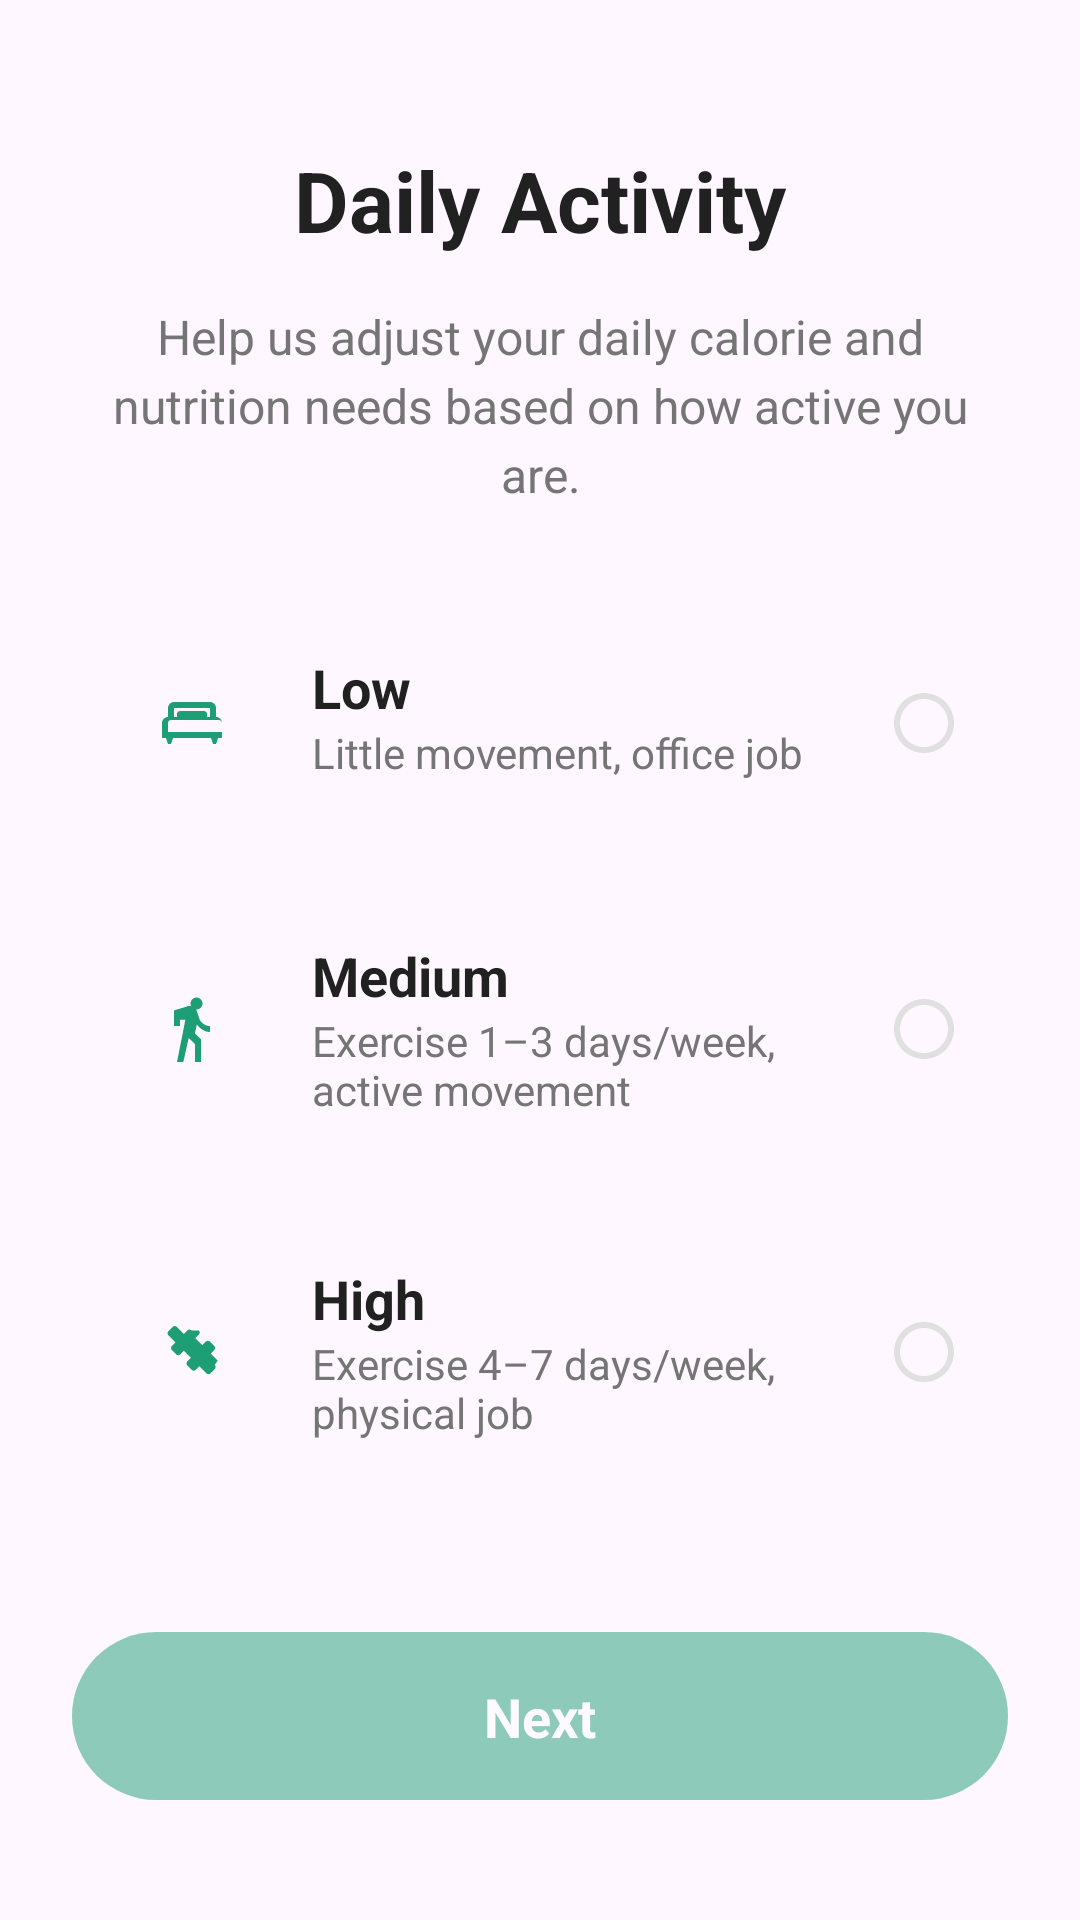

Screen size 1080 x 1920. Icon name, then its center in pixels as (x,y):
fitness: (192,1350)
walk: (192,1029)
